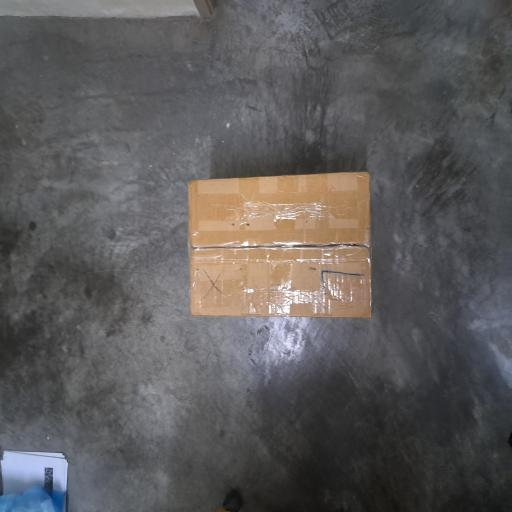cardboard: (144, 251, 256, 498)
